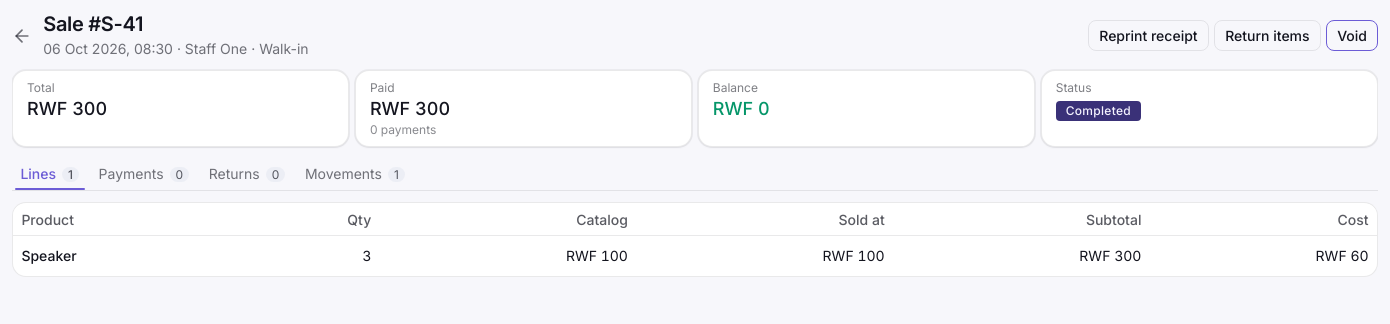
Test: SaleDetailPageClient › groups the detail into tabs
expect the heading "Sale #S-41" is shown: met, box [43,12,143,36]
Click the tab "Payments0" at (144, 174), box [90,159,198,190]
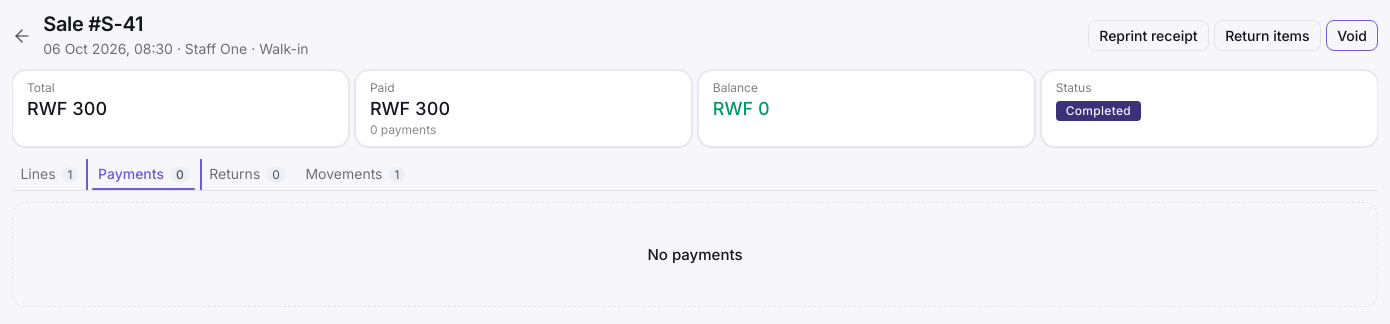
expect the text "No payments" is shown: met, box [648,243,742,266]
